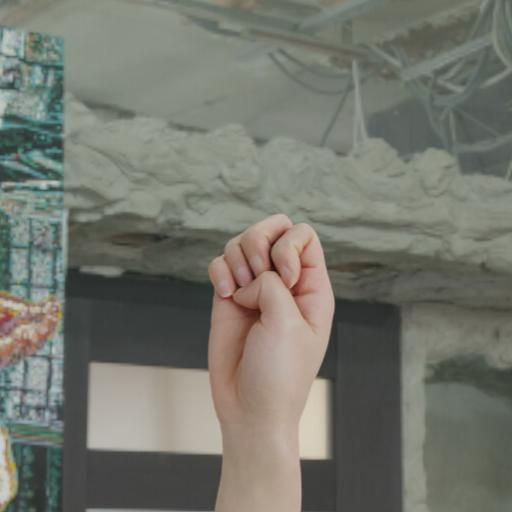E: (188, 206, 345, 512)
